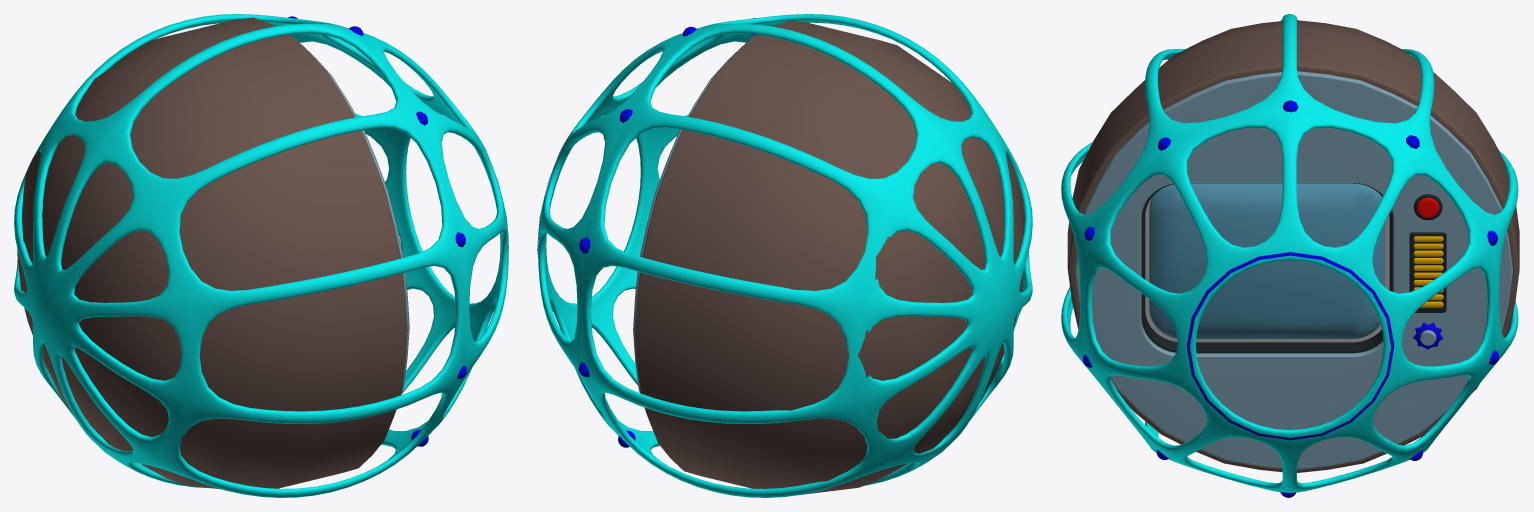
File: SM_TV_Round.fbx
3 renders of one model, left to right at view 1: azimuth 30°, elevation 25°; view 2: azimuth 150°, elevation 25°; view 3: azimuth 270°, elevation 25°, orthographic. The views are drawn at different scales.
Visible parts, largest first — view 1: SM_TV_Round; view 2: SM_TV_Round; view 3: SM_TV_Round.
Boxes of the visible parts, bbox=[...] form: SM_TV_Round: bbox=[14, 14, 508, 497]; SM_TV_Round: bbox=[537, 14, 1032, 497]; SM_TV_Round: bbox=[1061, 14, 1519, 497].
Size of the model in its own units: 204 by 212 by 203.
